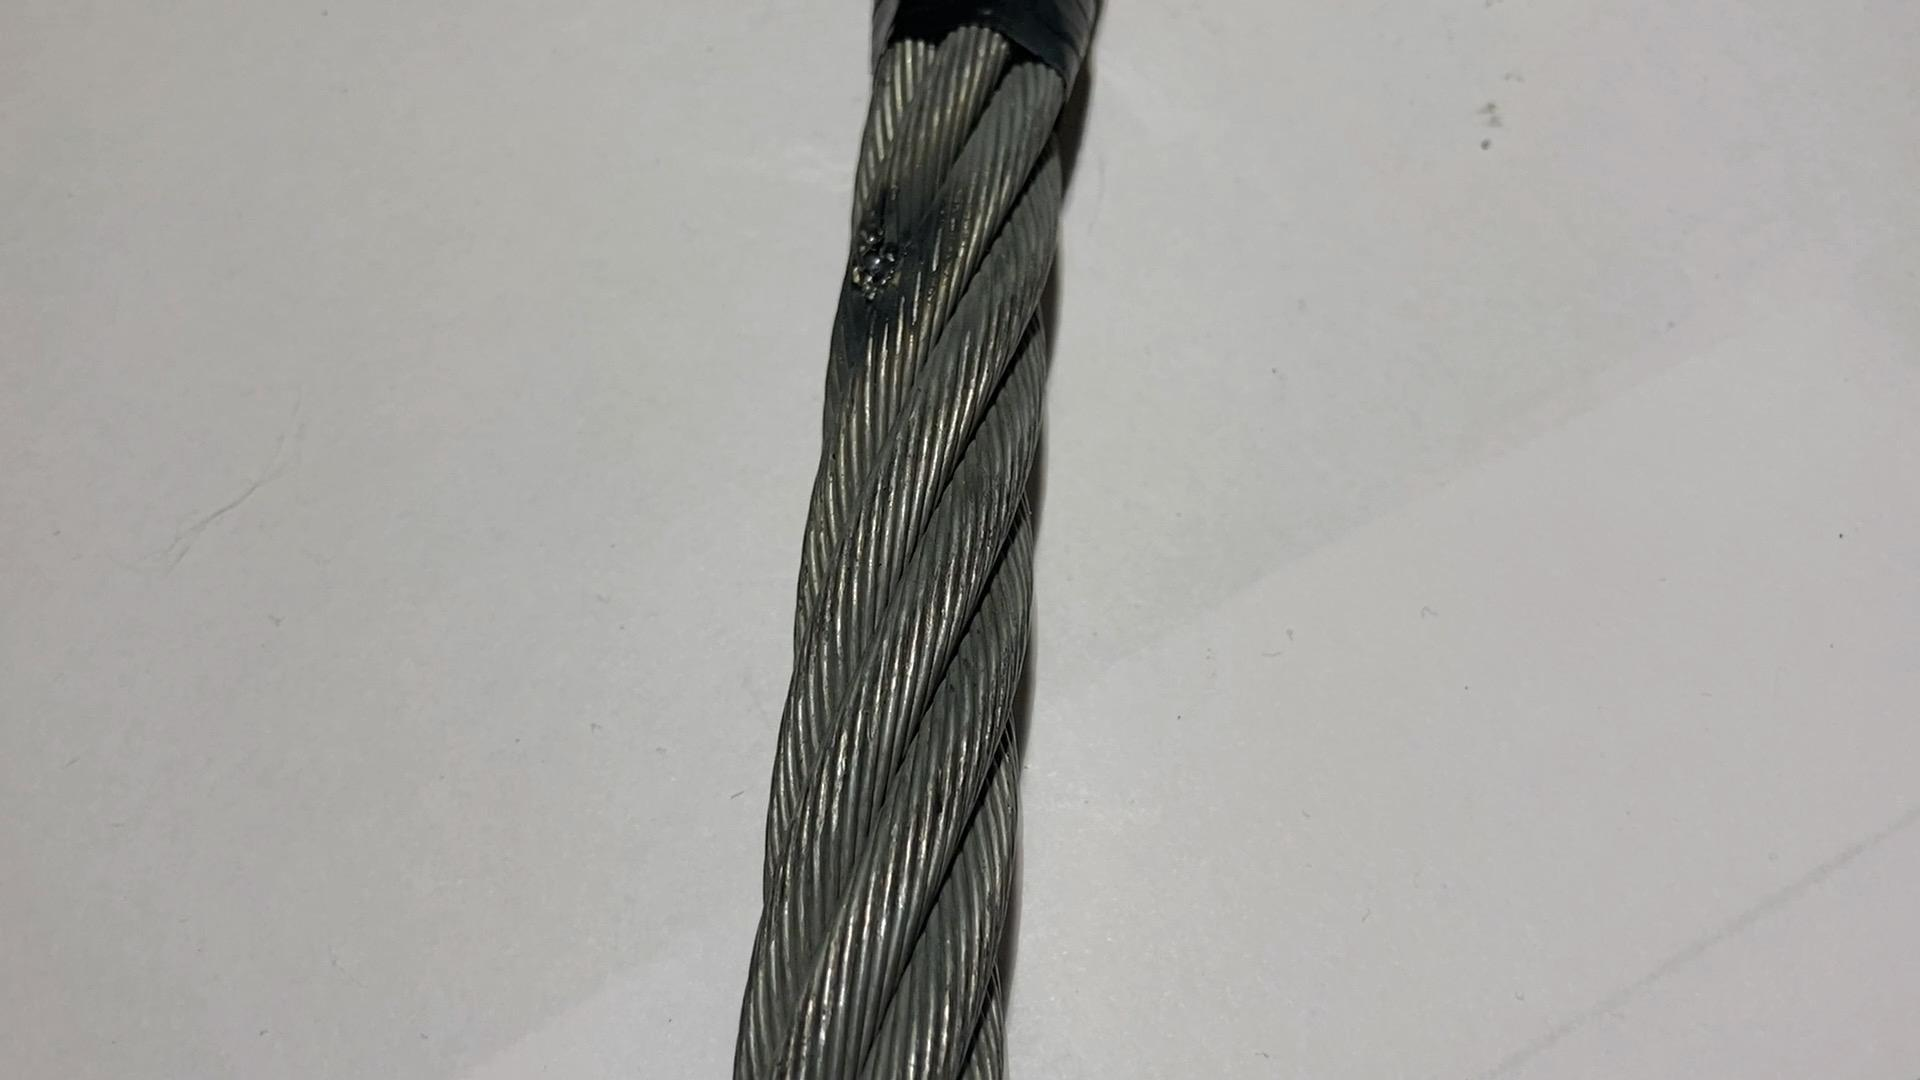thunderbolt: (841, 214, 914, 306)
